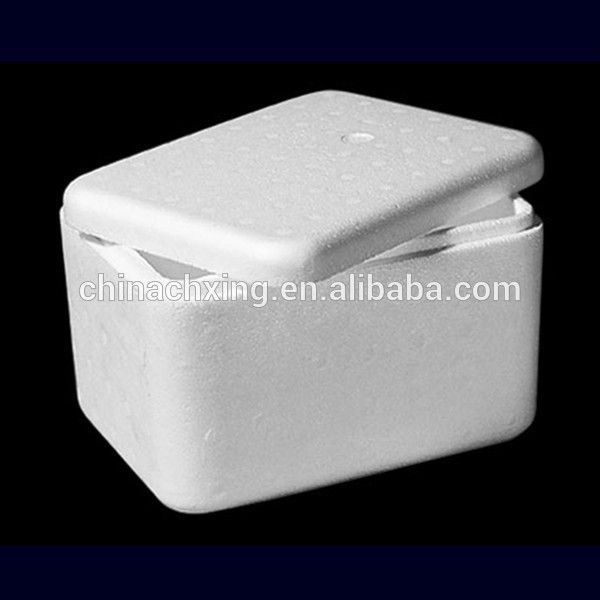Foam Box: (50, 77, 554, 520)
